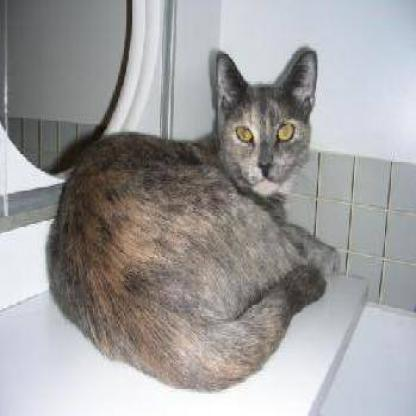cat: (50, 43, 357, 395)
